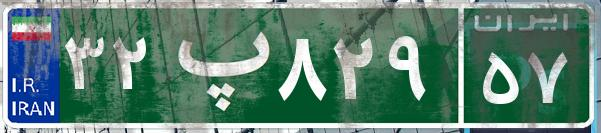2: (330, 28, 385, 110), (110, 28, 158, 105)
3: (57, 26, 110, 107)
5: (475, 38, 525, 113)
7: (525, 38, 570, 115)
8: (273, 28, 330, 110)
9: (385, 28, 445, 110)
پ: (158, 15, 273, 115)
